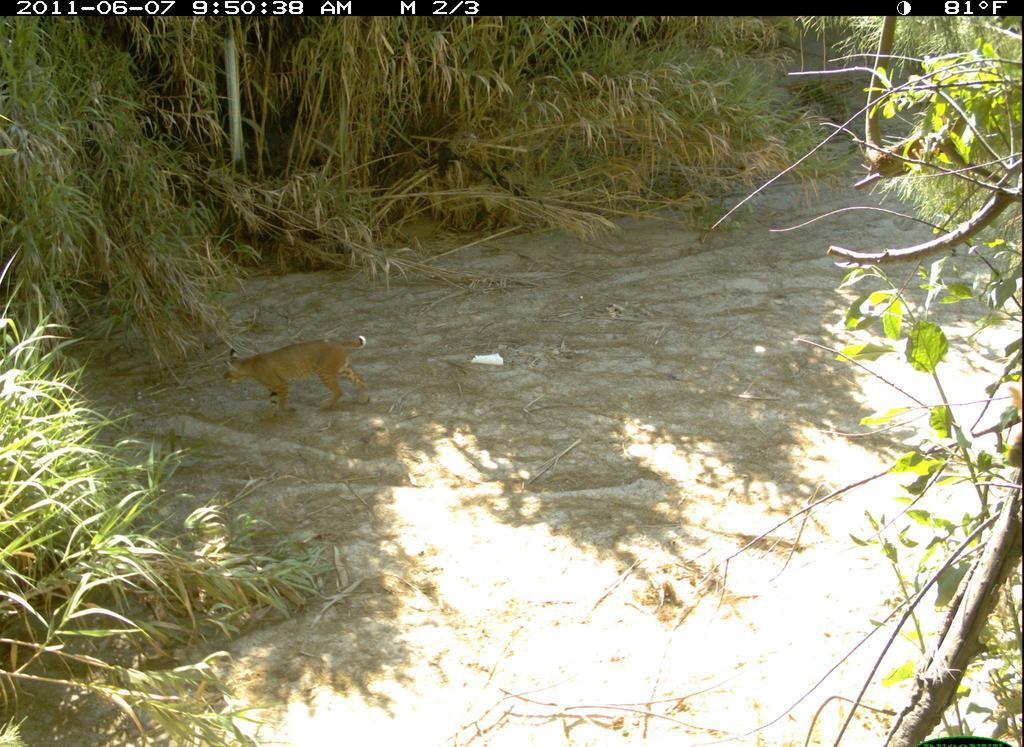bobcat: (214, 331, 382, 419)
